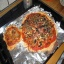pizza: (22, 12, 58, 49), (4, 25, 20, 48)
